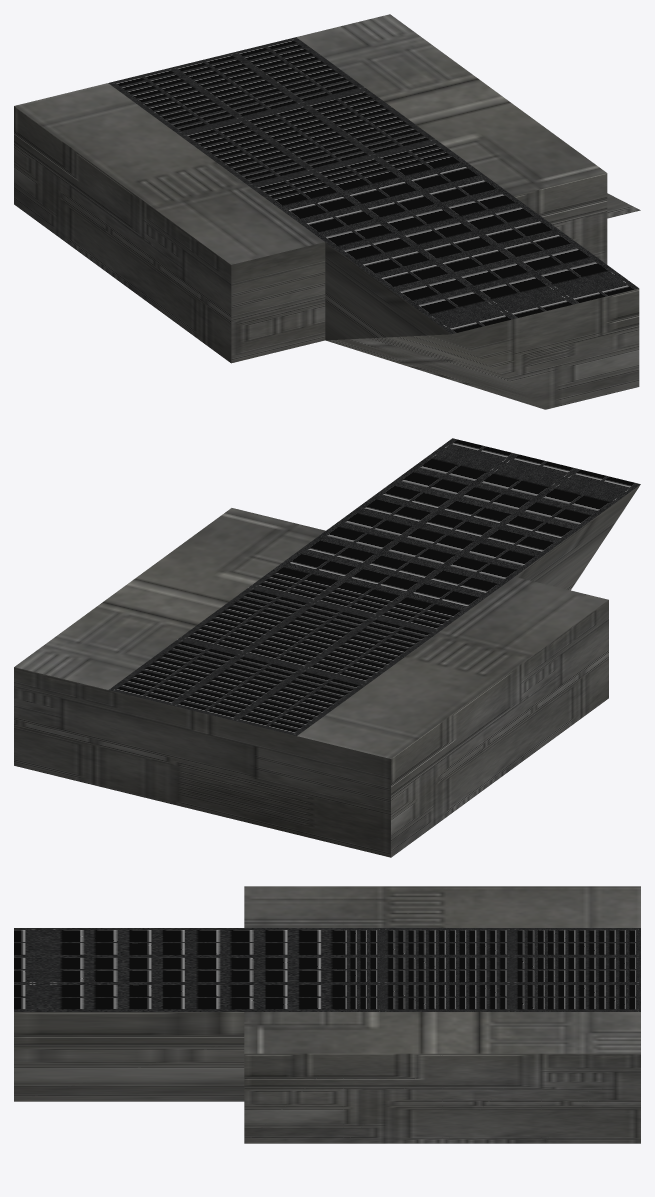
The model's file is floor3.gltf.
3 views of the same model, one above another, from view 1: azimuth 30°, elevation 25°; view 2: azimuth 150°, elevation 25°; view 3: azimuth 270°, elevation 25° (orthographic). The views are drawn at different scales.
Parts seen in each view (by area): view 1: polymsh_detached49; view 2: polymsh_detached49; view 3: polymsh_detached49.
Boxes of the visible parts, <box> form: polymsh_detached49: <box>14,14,640,409</box>; polymsh_detached49: <box>14,438,640,857</box>; polymsh_detached49: <box>14,886,640,1143</box>.
Size of the model in its own units: 19.74 by 4 by 25.29.
Materials: 2 (2 with a texture image).
